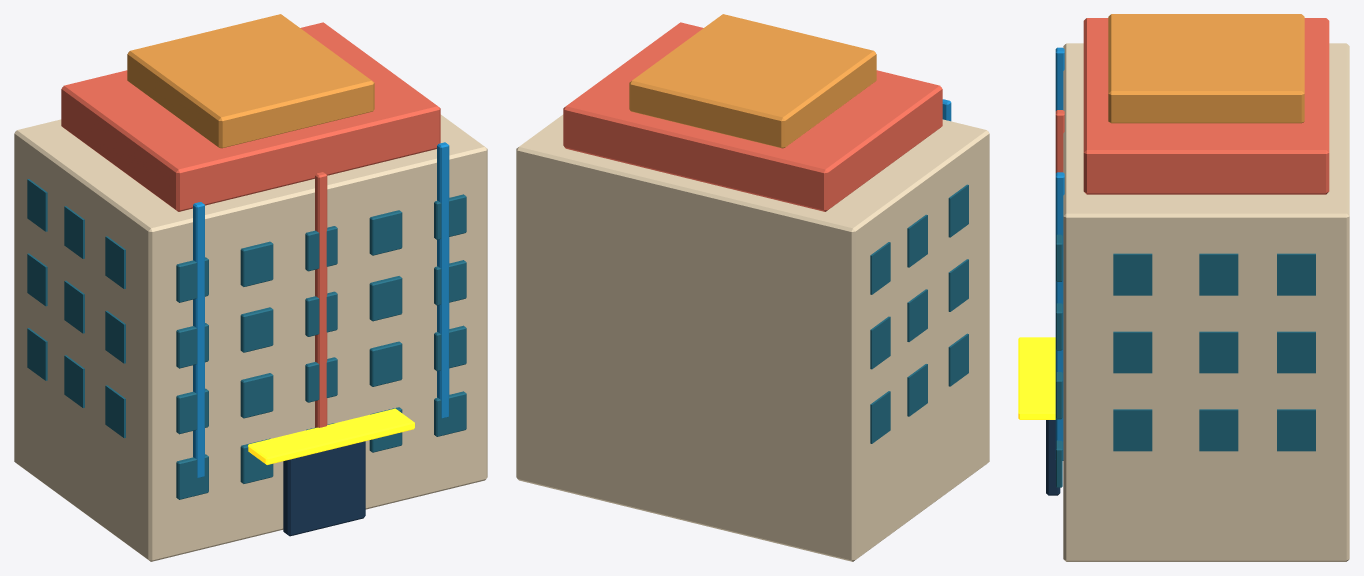
File: city_block_b.glb
The picture shows the model from 3 angles, left to right: view 1: azimuth 30°, elevation 25°; view 2: azimuth 150°, elevation 25°; view 3: azimuth 270°, elevation 25°; orthographic projection. The views are drawn at different scales.
Visible parts, largest first — view 1: B_Main, City_Block_B_Windows_FR_Glass, B_Crown, B_CrownTop, B_Entry, B_Marquee, B_VerticalFin_3.6, B_VerticalFin_-3.6, B_VerticalFin_0; view 2: B_Main, B_Crown, B_CrownTop, City_Block_B_Windows_FR_Glass; view 3: B_Main, B_Crown, B_CrownTop, City_Block_B_Windows_FR_Glass, B_Marquee, B_VerticalFin_3.6, B_Entry, B_VerticalFin_0, B_VerticalFin_-3.6.
Boxes of the visible parts, box(x1,y1,x2,y2) form: B_Main: box(14, 114, 487, 561); City_Block_B_Windows_FR_Glass: box(27, 179, 466, 499); B_Crown: box(61, 22, 440, 211); B_CrownTop: box(127, 14, 374, 148); B_Entry: box(283, 441, 365, 536); B_Marquee: box(248, 408, 414, 464); B_VerticalFin_3.6: box(437, 142, 449, 418); B_VerticalFin_-3.6: box(193, 202, 204, 477); B_VerticalFin_0: box(315, 172, 327, 427); B_Main: box(516, 114, 989, 561); B_Crown: box(563, 22, 942, 211); B_CrownTop: box(629, 14, 876, 148); City_Block_B_Windows_FR_Glass: box(870, 184, 968, 443); B_Main: box(1063, 43, 1349, 561); B_Crown: box(1083, 18, 1329, 194); B_CrownTop: box(1108, 14, 1304, 123); City_Block_B_Windows_FR_Glass: box(1056, 234, 1315, 487); B_Marquee: box(1018, 337, 1055, 419); B_VerticalFin_3.6: box(1055, 172, 1064, 460); B_Entry: box(1046, 420, 1060, 495); B_VerticalFin_0: box(1055, 110, 1064, 172); B_VerticalFin_-3.6: box(1055, 47, 1064, 110).
Size of the model in its own units: 10.11 by 11.45 by 8.1.
